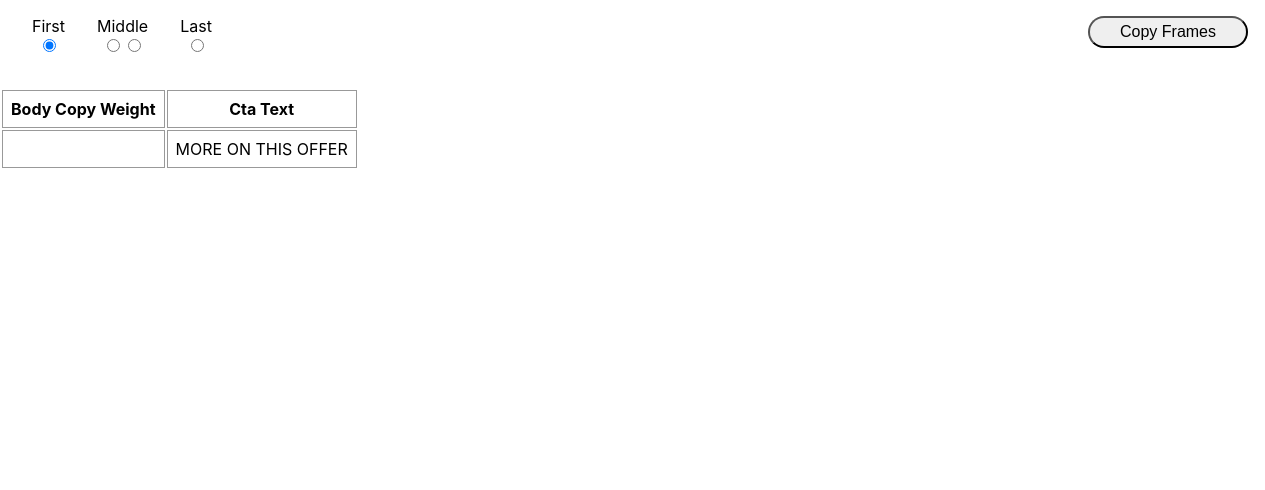
Test case: App › handles Copy Frames button click
Step 1. Click the button "Copy Frames" → x=1168, y=32, box [1088,16,1248,48]
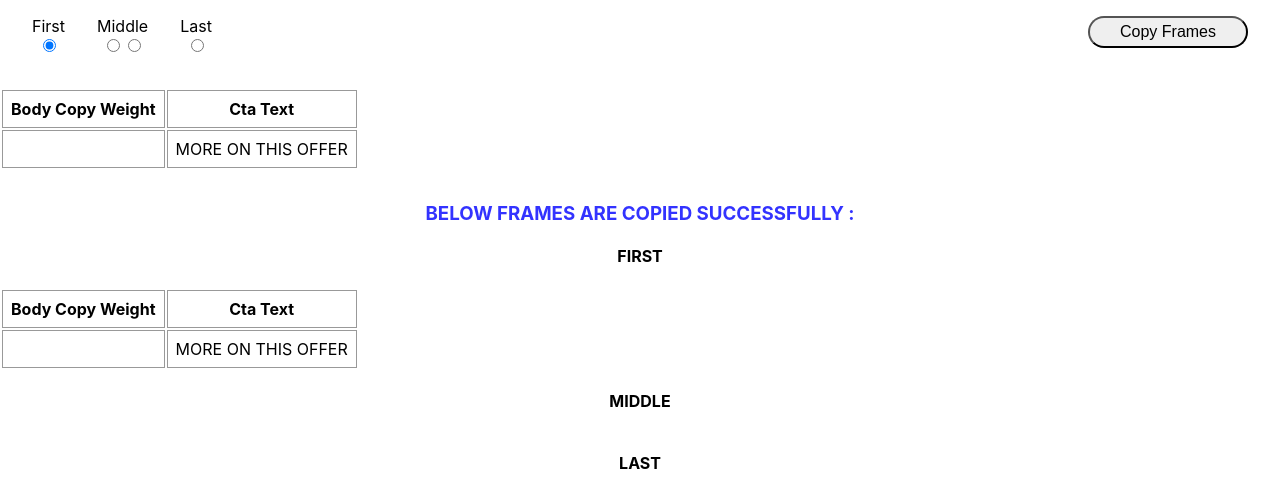
Result: the heading "BELOW FRAMES ARE COPIED SUCCESSFULLY :" is shown at [425,202,855,225]
Result: the heading "FIRST" is shown at [617,246,663,266]
Result: the heading "MIDDLE" is shown at [609,391,671,411]
